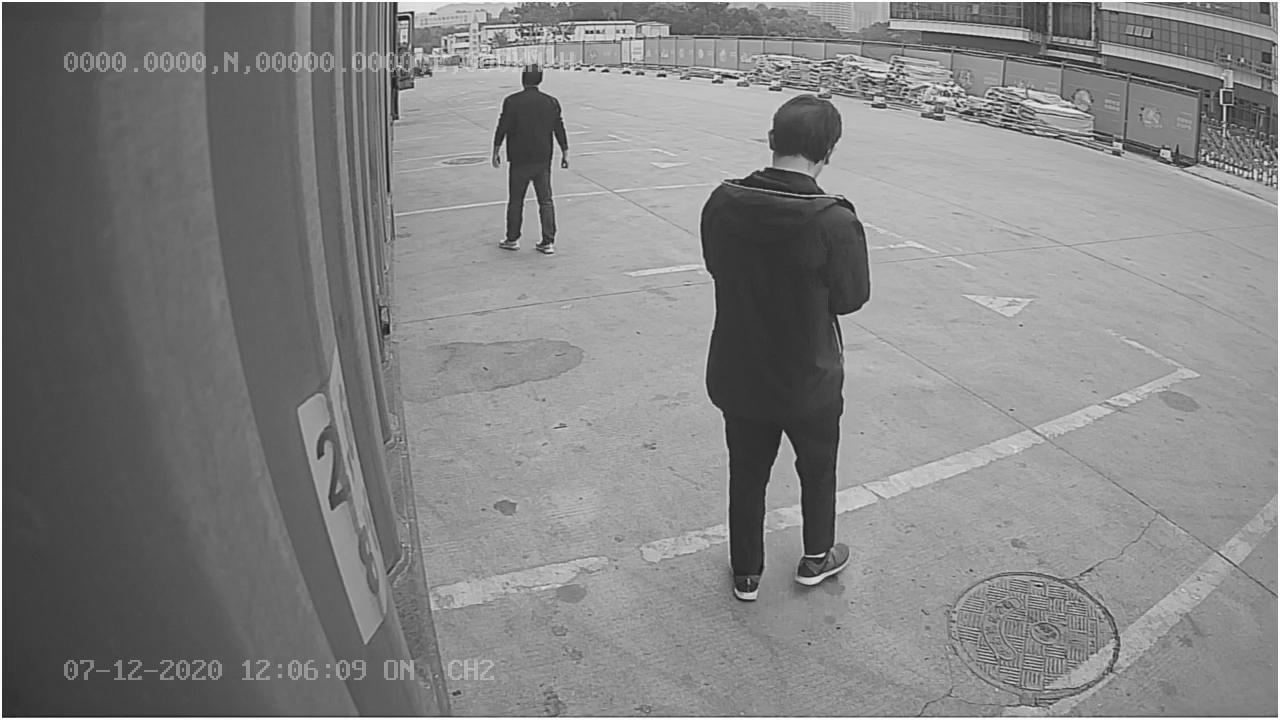person: (696, 93, 878, 602)
